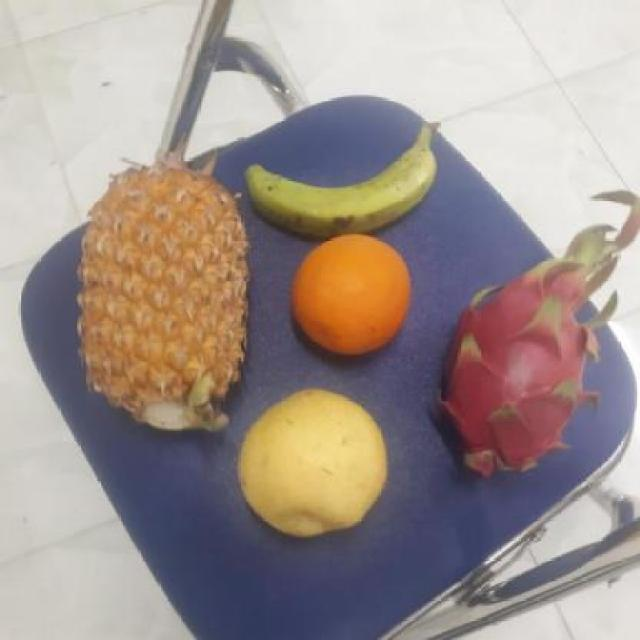banana: (240, 126, 432, 239)
dragon fruit: (427, 266, 593, 482)
oren: (286, 230, 416, 358)
pear: (232, 392, 390, 538)
pineapple: (70, 168, 252, 434)
